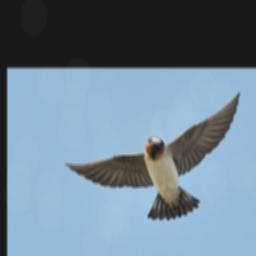Swallow: (65, 90, 242, 221)
